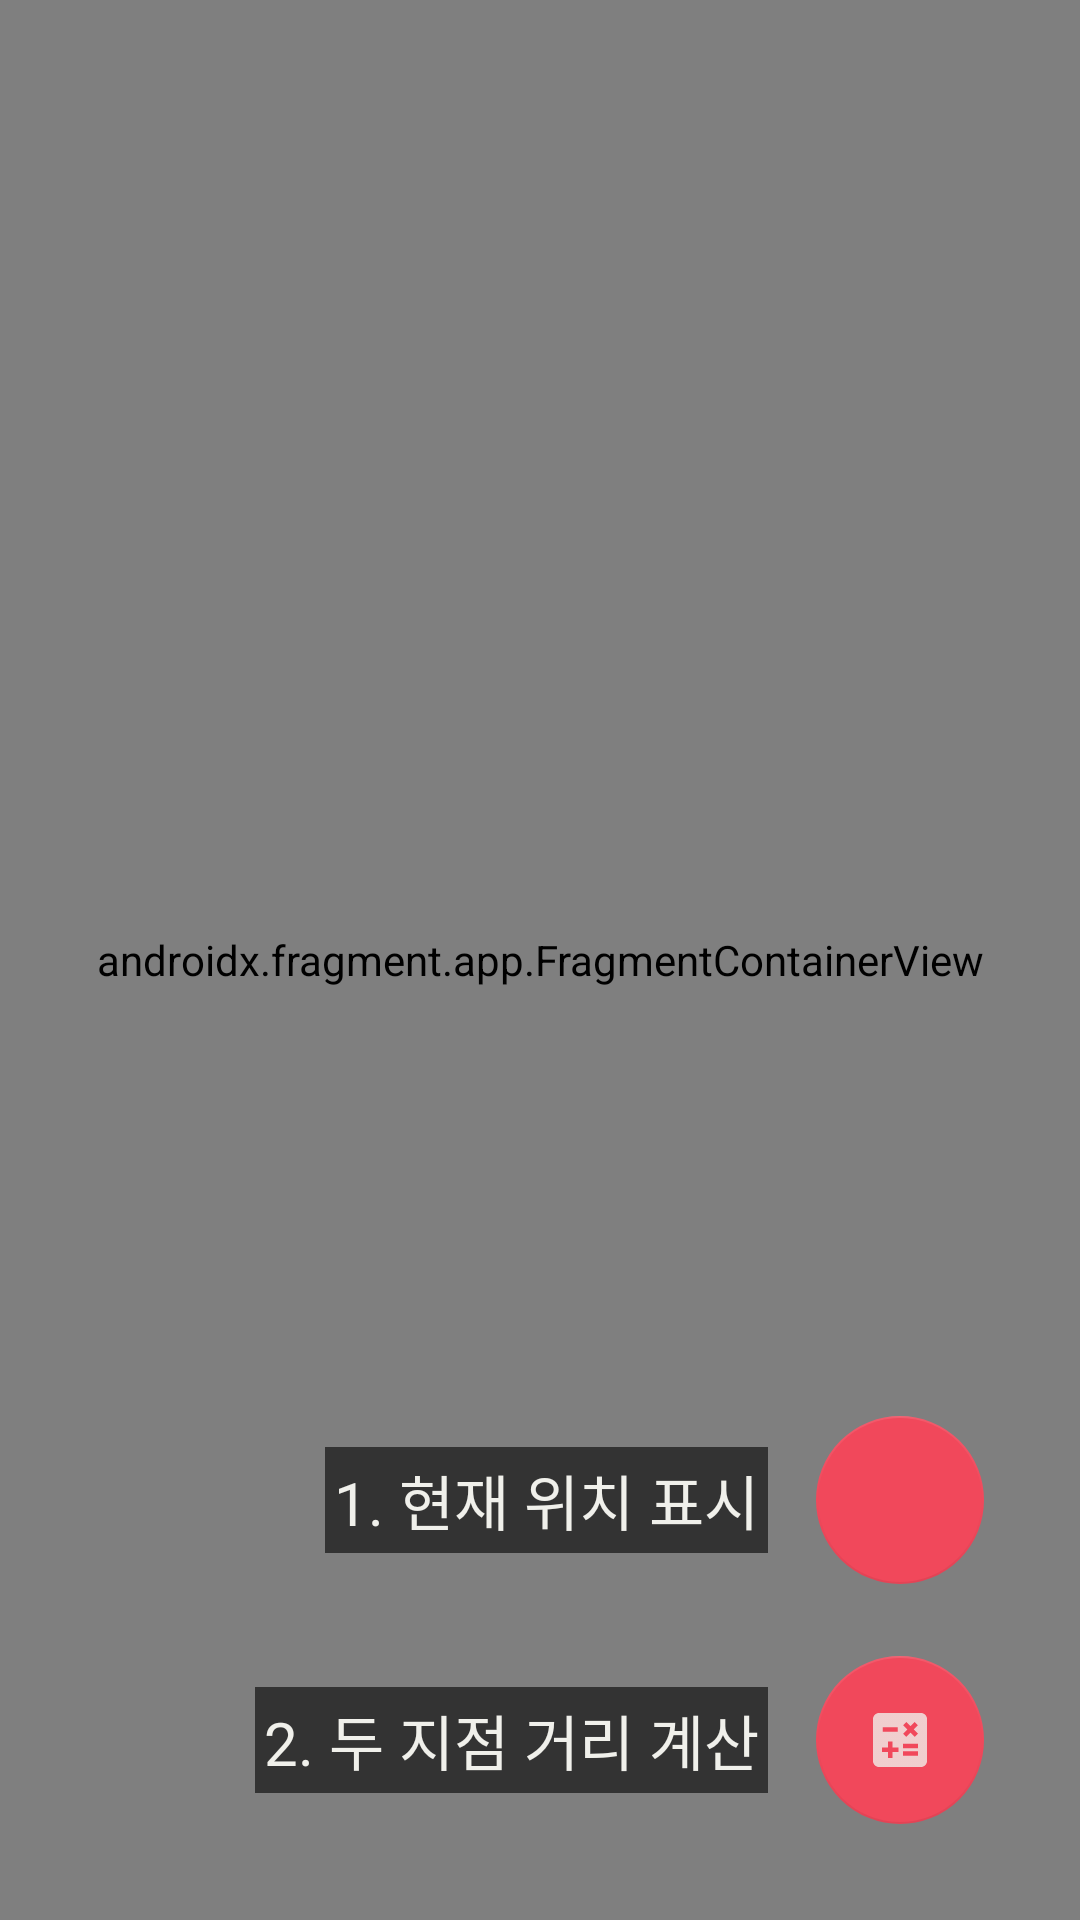

Named icons in this screenshot (1080×1920) and their centers, (x,y):
calculator: (900,1740)
